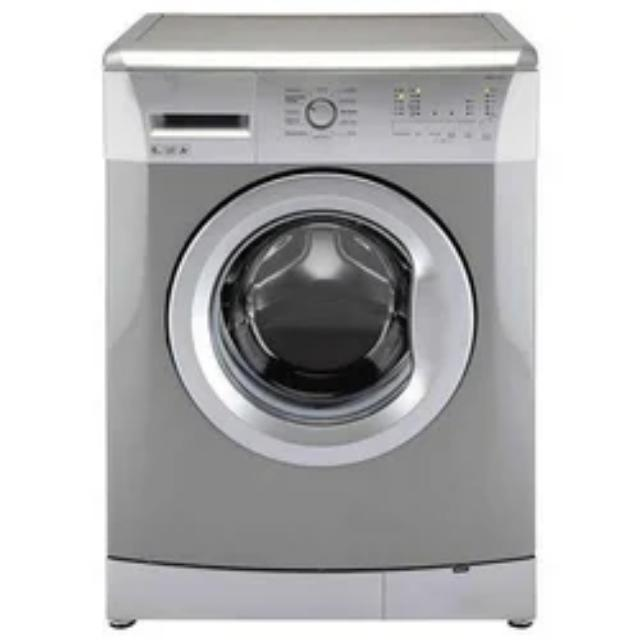Washing-Machine: (104, 10, 540, 624)
